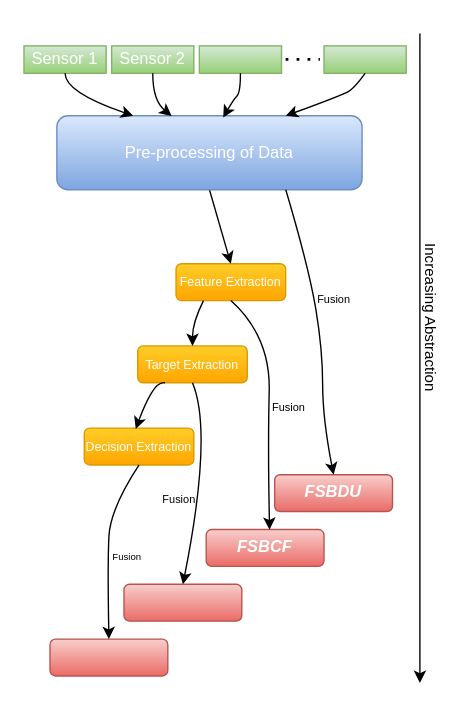
Image size: 464x718. Some labels were removed from this diagram. Each missing label, with the centre of its shape:
FSBMD: the point at 108,657
FSBTA: the point at 182,602
Sensor 3: the point at 240,59
Sensor n: the point at 364,59
